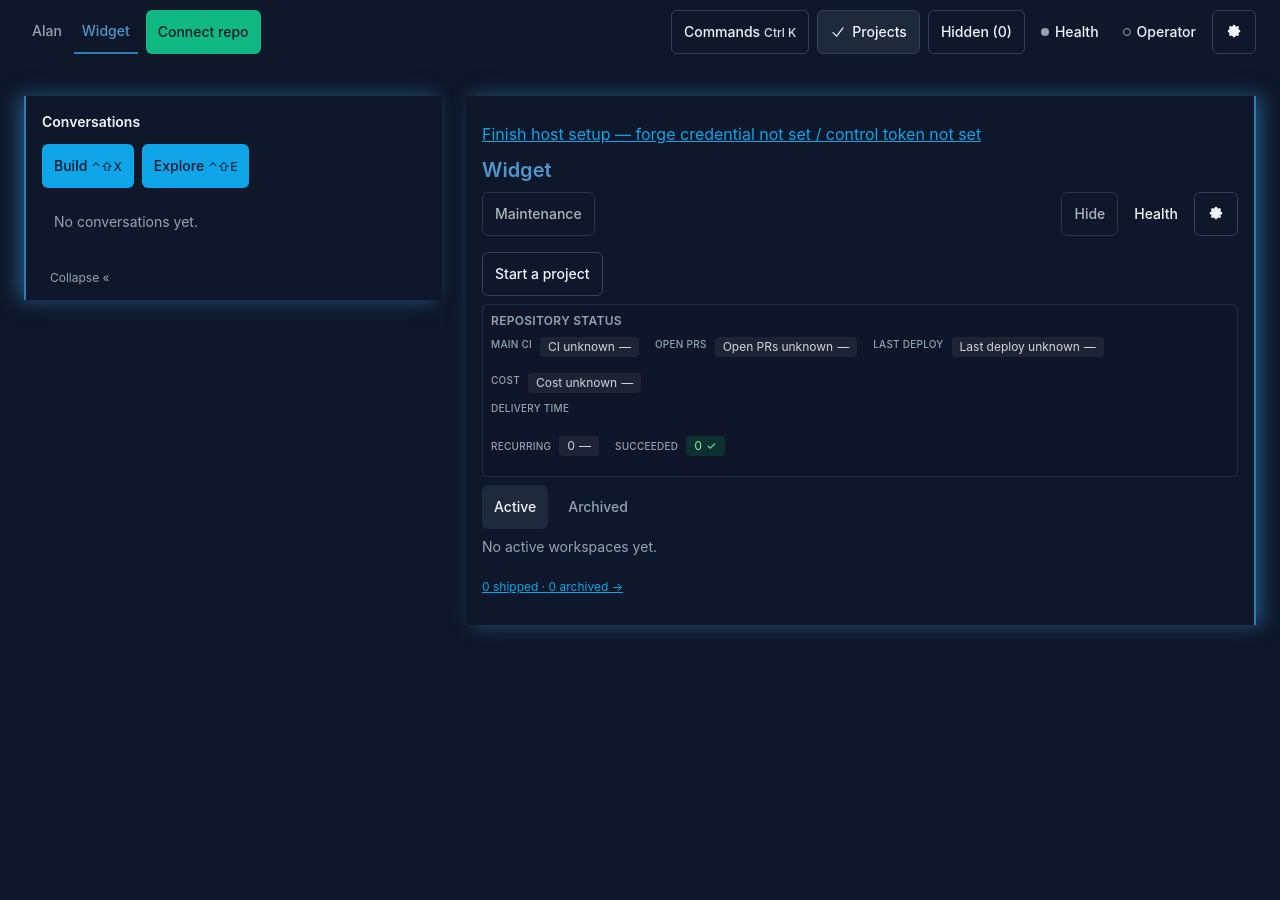
App shell — nav badges and settings › a child rendered under Shell (the repo dashboard's needs-you host-setup line) can open the Settings modal through the shared context
What coordinates should you click on to do the following:
click the button with test id "needs-you-host-setup"
I would click on:
 (732, 134)
Its box is top-left (482, 112), bottom-right (981, 156).
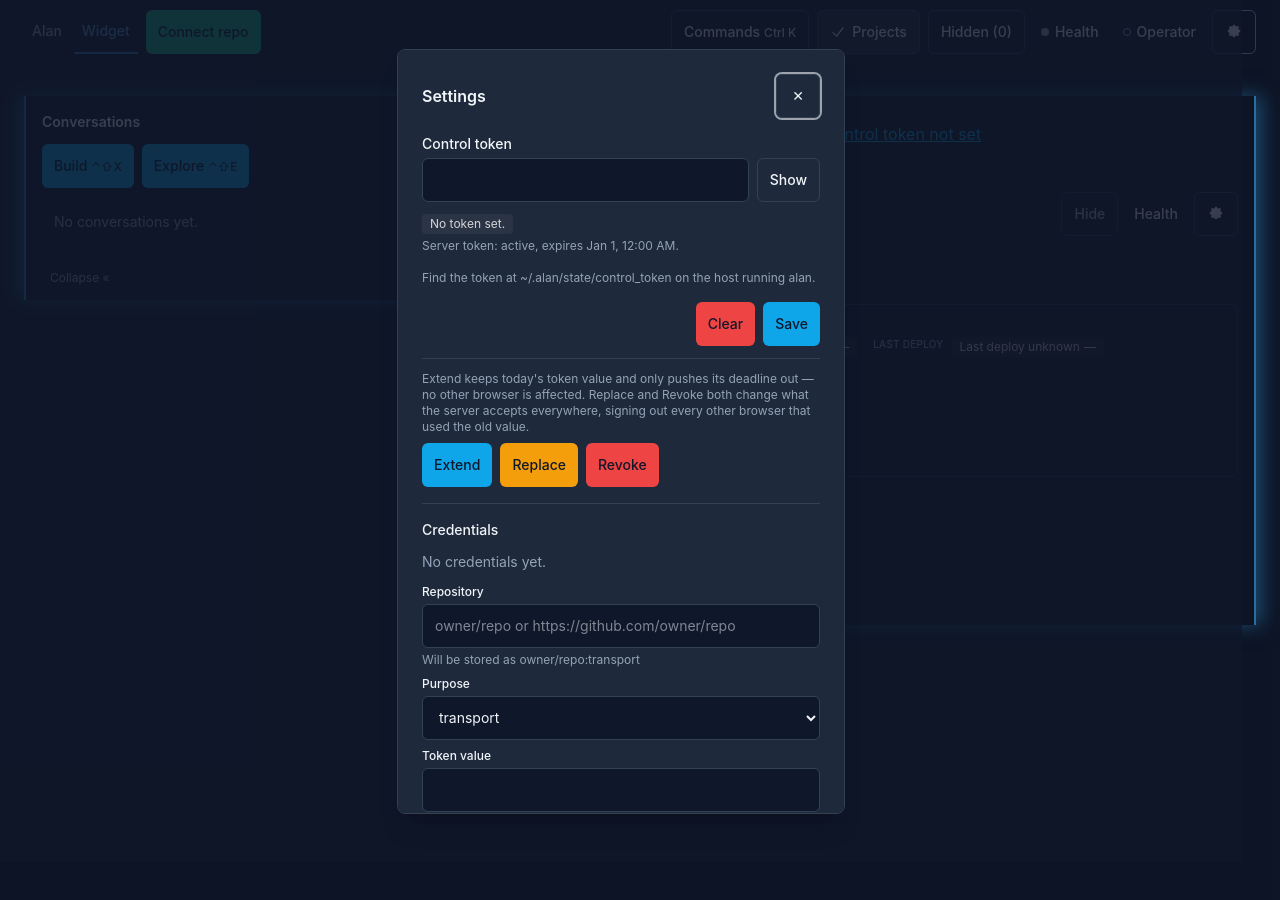
Expected: the dialog with test id "settings-modal" is shown
